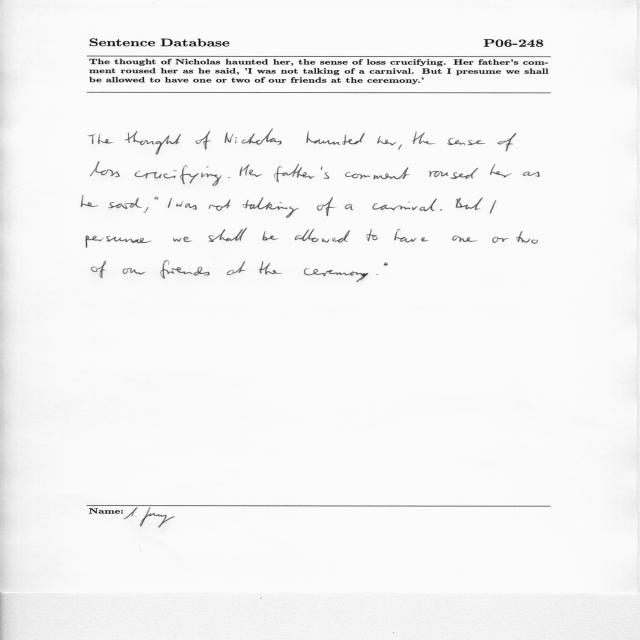word: (135, 165, 222, 186), (124, 131, 181, 155), (243, 197, 299, 218), (274, 164, 329, 182), (225, 129, 282, 145), (160, 261, 210, 279), (304, 269, 368, 283), (345, 167, 410, 180), (86, 235, 151, 248), (306, 131, 365, 145), (372, 199, 437, 211), (295, 229, 350, 242), (429, 168, 478, 179), (209, 228, 247, 242), (90, 161, 120, 177), (394, 229, 429, 242), (108, 198, 142, 209), (317, 197, 336, 216), (497, 133, 517, 151), (456, 197, 483, 210), (259, 261, 282, 275), (195, 131, 211, 150), (448, 138, 486, 146), (412, 132, 435, 145), (240, 164, 263, 177), (490, 165, 512, 178), (516, 231, 538, 244), (91, 261, 106, 278), (227, 261, 245, 275), (89, 134, 114, 144), (209, 200, 231, 211), (81, 196, 99, 207), (176, 201, 197, 210), (452, 235, 478, 242), (377, 136, 397, 145), (262, 231, 279, 241), (123, 268, 146, 275), (366, 229, 378, 241), (523, 171, 540, 177), (492, 237, 509, 243), (173, 237, 192, 242), (490, 200, 496, 214), (345, 204, 354, 210), (167, 198, 172, 208), (144, 207, 149, 213), (398, 145, 402, 150), (154, 196, 158, 200), (384, 262, 388, 266), (440, 209, 442, 211), (229, 177, 231, 178), (376, 274, 378, 275)
